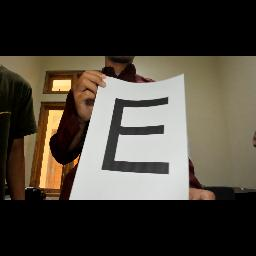e: (99, 92, 175, 184)
